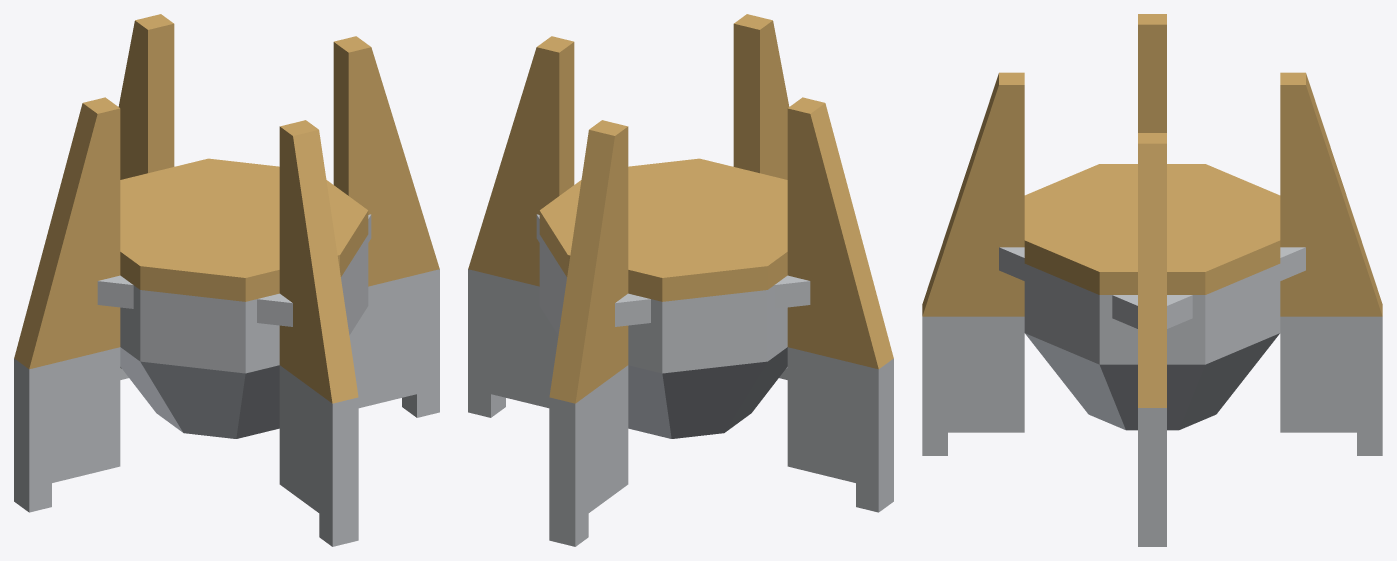
File: rocket_baseA.glb
3 renders of one model, left to right at view 1: azimuth 30°, elevation 25°; view 2: azimuth 150°, elevation 25°; view 3: azimuth 270°, elevation 25°, orthographic. The views are drawn at different scales.
Visible parts, largest first — view 1: rocket_baseA; view 2: rocket_baseA; view 3: rocket_baseA.
Part boxes in pixels (x1,y1,x2,y2): rocket_baseA: [14, 14, 439, 546]; rocket_baseA: [468, 14, 893, 546]; rocket_baseA: [922, 14, 1382, 546].
Bounding box in the file's own units: 1.12 × 1 × 1.12.
